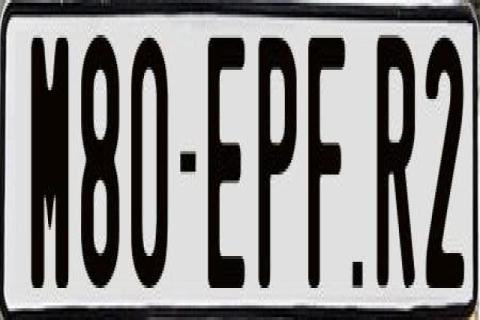0: (80, 32, 122, 296), (129, 32, 171, 294), (422, 35, 463, 294)
E: (207, 35, 247, 297)
F: (308, 38, 350, 291)
M: (28, 38, 68, 291)
P: (257, 32, 298, 285)
R: (376, 32, 420, 291)
